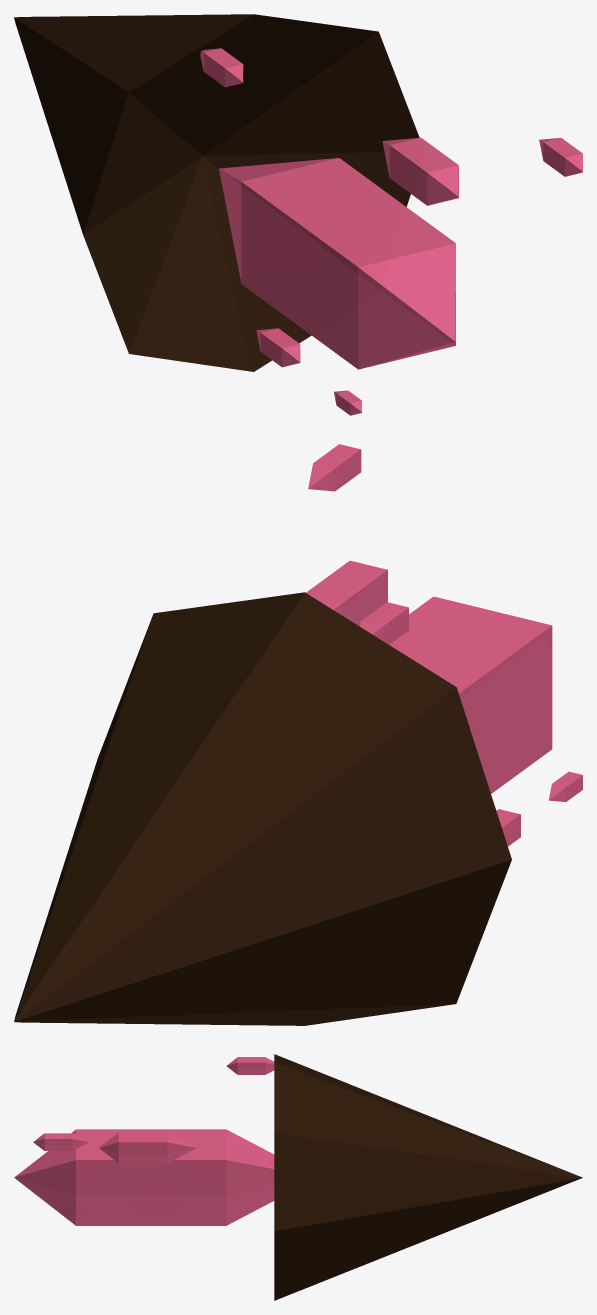
Rendered from Checkpoint.fbx.
The picture shows the model from 3 angles, top to bottom: view 1: azimuth 30°, elevation 25°; view 2: azimuth 150°, elevation 25°; view 3: azimuth 270°, elevation 25°; orthographic projection. The views are drawn at different scales.
Visible parts, largest first — view 1: Mount, Crystal.Main, Crystal.001, Crystal.003, Crystal.004, Crystal.005, Crystal.002; view 2: Mount, Crystal.Main, Crystal.001, Crystal.005, Crystal.004, Crystal.002; view 3: Mount, Crystal.Main, Crystal.001, Crystal.005, Crystal.004.
Part boxes in pixels (bbox=[...]): Mount: bbox=[14, 14, 419, 371]; Crystal.Main: bbox=[219, 158, 455, 369]; Crystal.001: bbox=[382, 137, 458, 205]; Crystal.003: bbox=[256, 328, 300, 367]; Crystal.004: bbox=[200, 48, 243, 87]; Crystal.005: bbox=[539, 138, 582, 176]; Crystal.002: bbox=[334, 390, 361, 415]; Mount: bbox=[14, 592, 511, 1025]; Crystal.Main: bbox=[389, 596, 552, 793]; Crystal.001: bbox=[306, 560, 387, 626]; Crystal.005: bbox=[308, 444, 361, 491]; Crystal.004: bbox=[360, 602, 408, 644]; Crystal.002: bbox=[548, 771, 582, 801]; Mount: bbox=[274, 1054, 582, 1300]; Crystal.Main: bbox=[14, 1129, 274, 1225]; Crystal.001: bbox=[99, 1132, 196, 1163]; Crystal.005: bbox=[33, 1133, 88, 1150]; Crystal.004: bbox=[226, 1057, 274, 1074].
Bounding box in the file's own units: 76.35 × 76.35 × 171.
